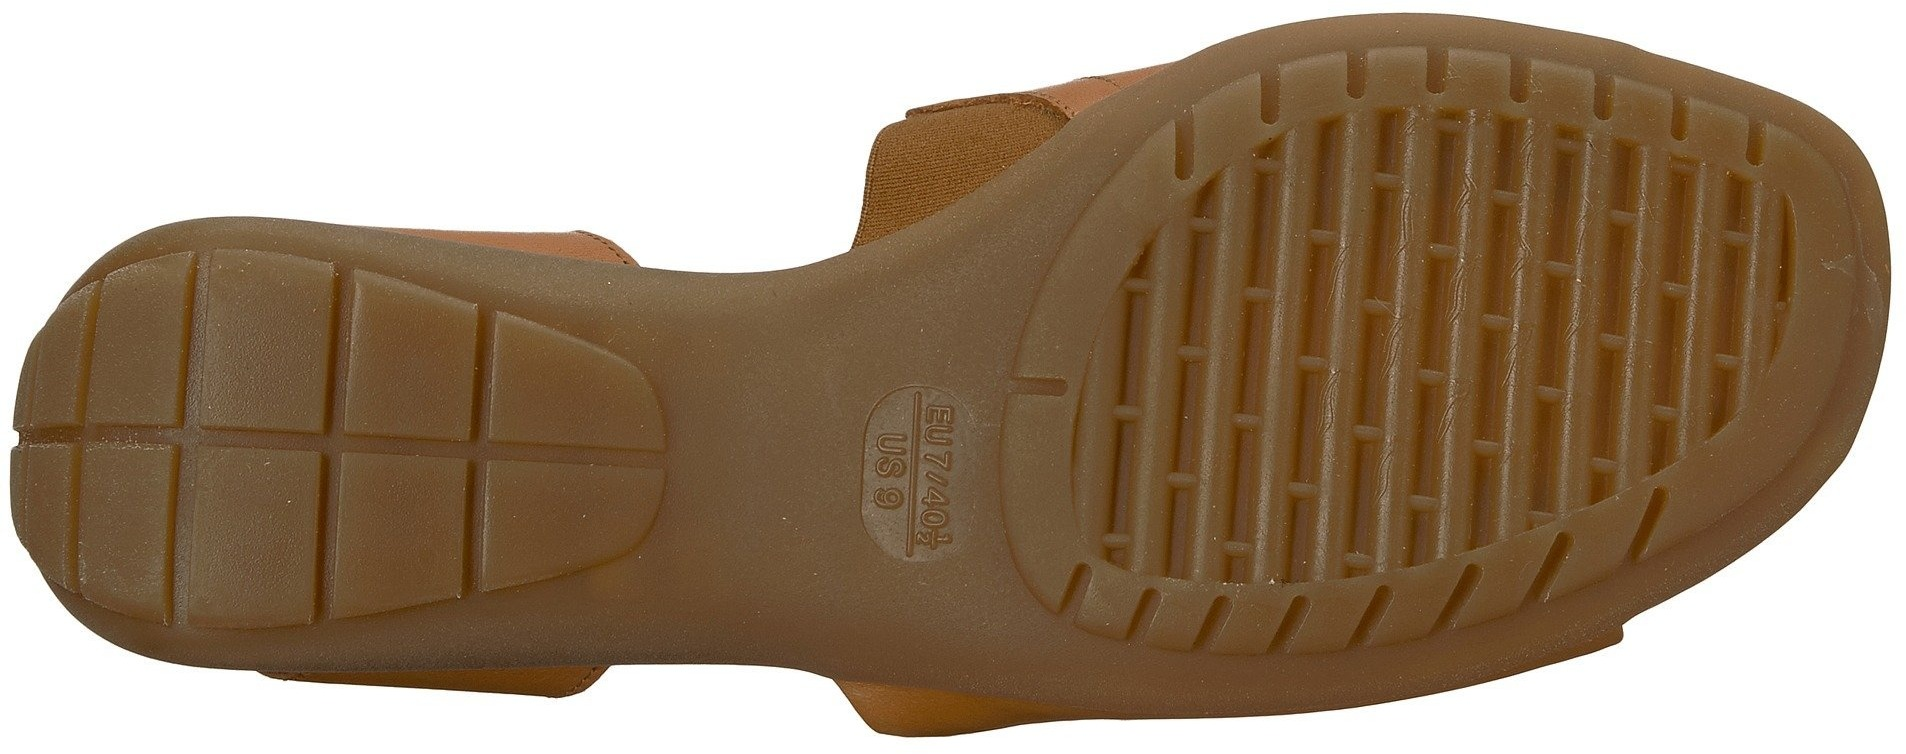line: (1145, 235, 1472, 527), (1391, 161, 1664, 458)
quad: (187, 244, 553, 643), (1145, 235, 1472, 527), (1391, 161, 1664, 458), (560, 314, 762, 552)
text: (845, 398, 974, 529)
